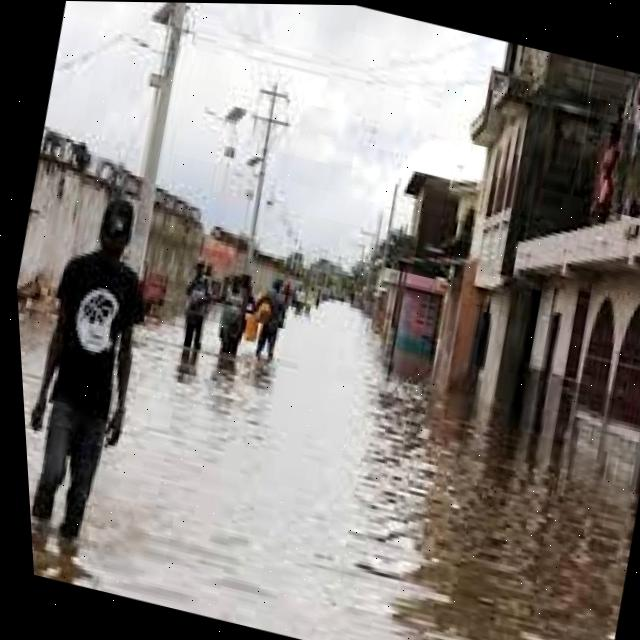civilian: (11, 182, 185, 571), (151, 244, 230, 399), (235, 265, 301, 392), (202, 269, 261, 392)
